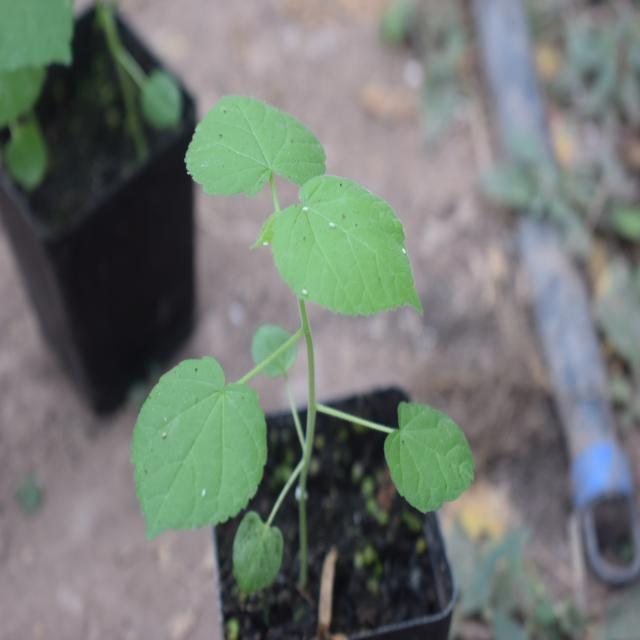abutilon theophrasti: (132, 88, 482, 537)
